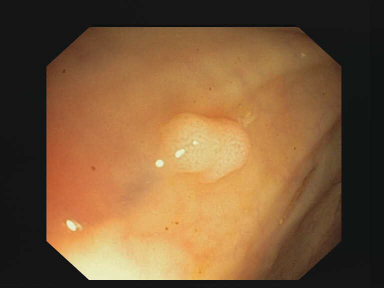polyp: (158, 110, 255, 181)
